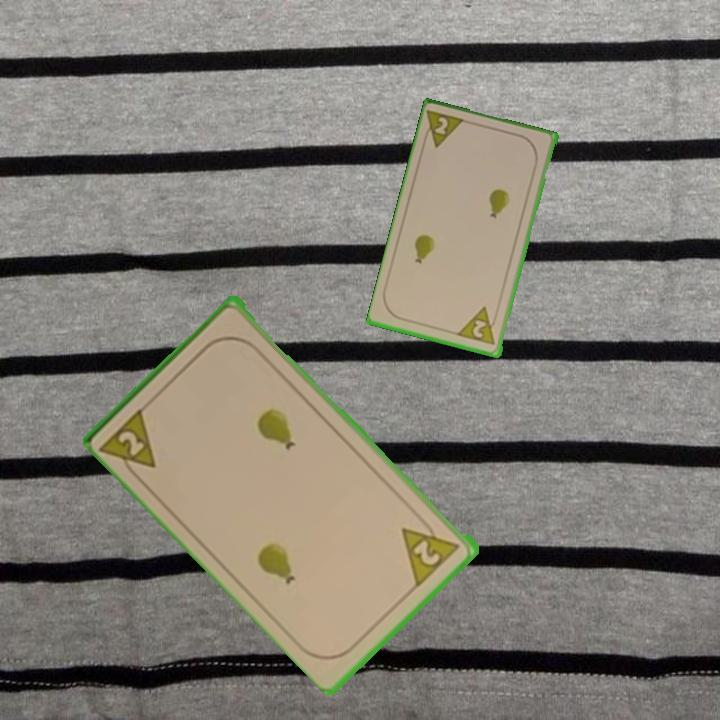2p: (98, 402, 160, 485), (398, 512, 464, 588), (419, 107, 469, 151), (456, 304, 500, 348)
